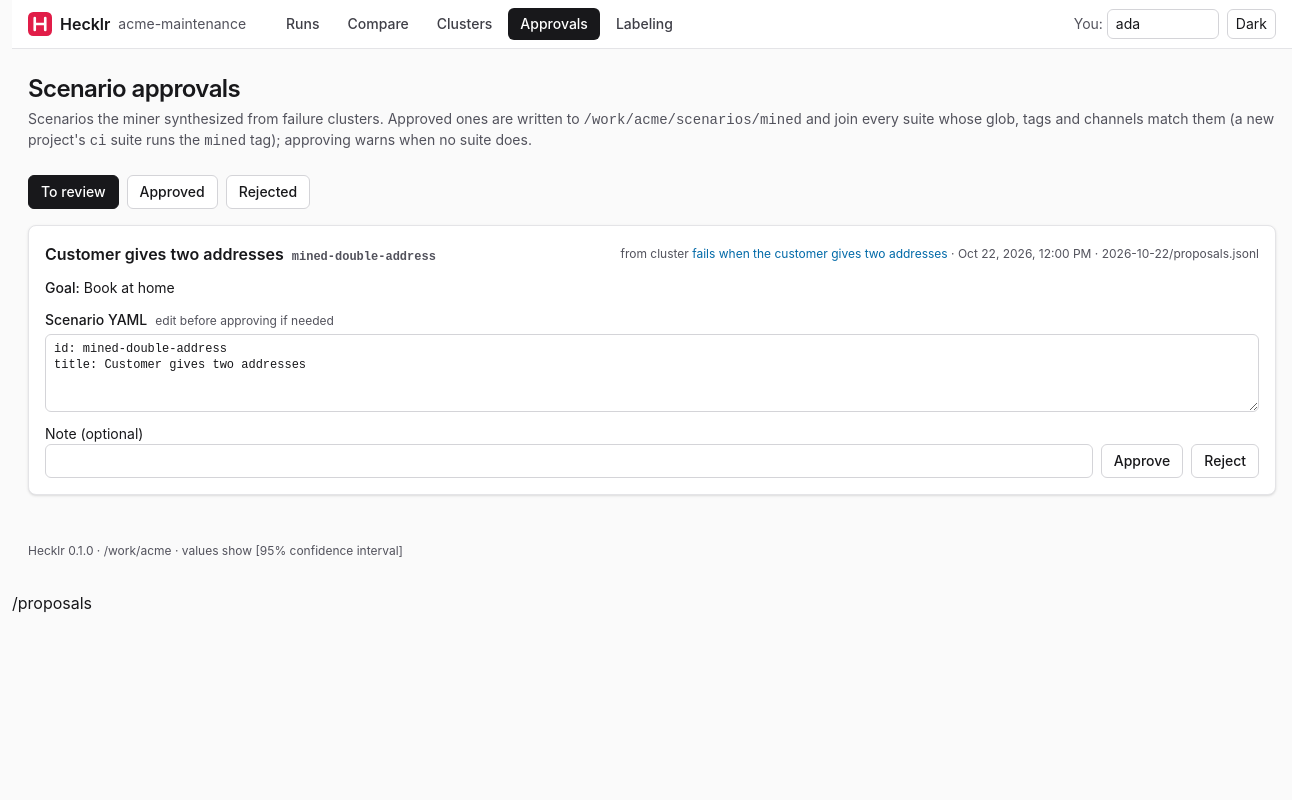
Test: ProposalsPage › us08: shows the server's warning when no suite runs the approved scenario
What coordinates should you click on to do the following:
click the button "Approve"
I would click on:
 (1142, 461)
Its box is [1101,444,1183,478].
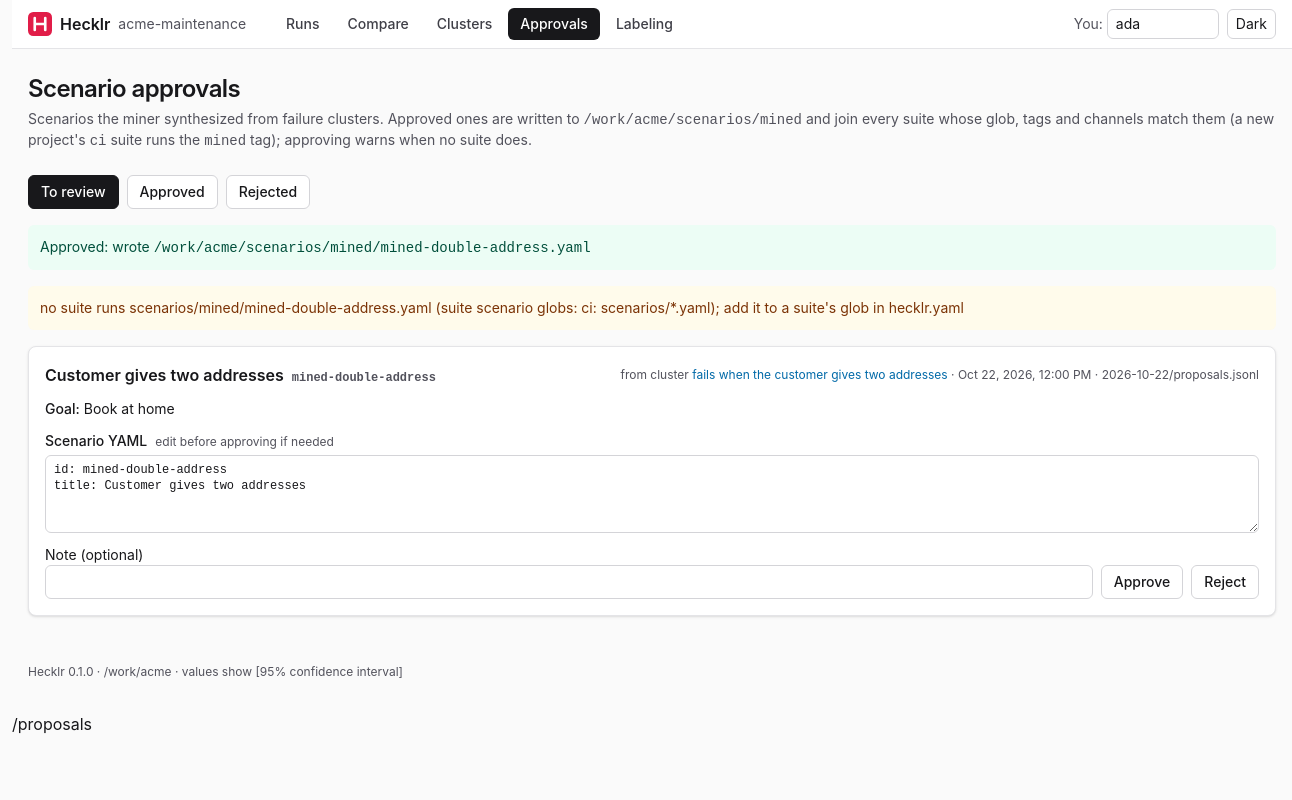
Expected: the 2nd message shows "no suite runs scenarios/mined/mined-double-address.yaml (suite scenario globs: ci: scenarios/*.yaml); add it to a suite's glob in hecklr.yaml", [40,299,964,316]
